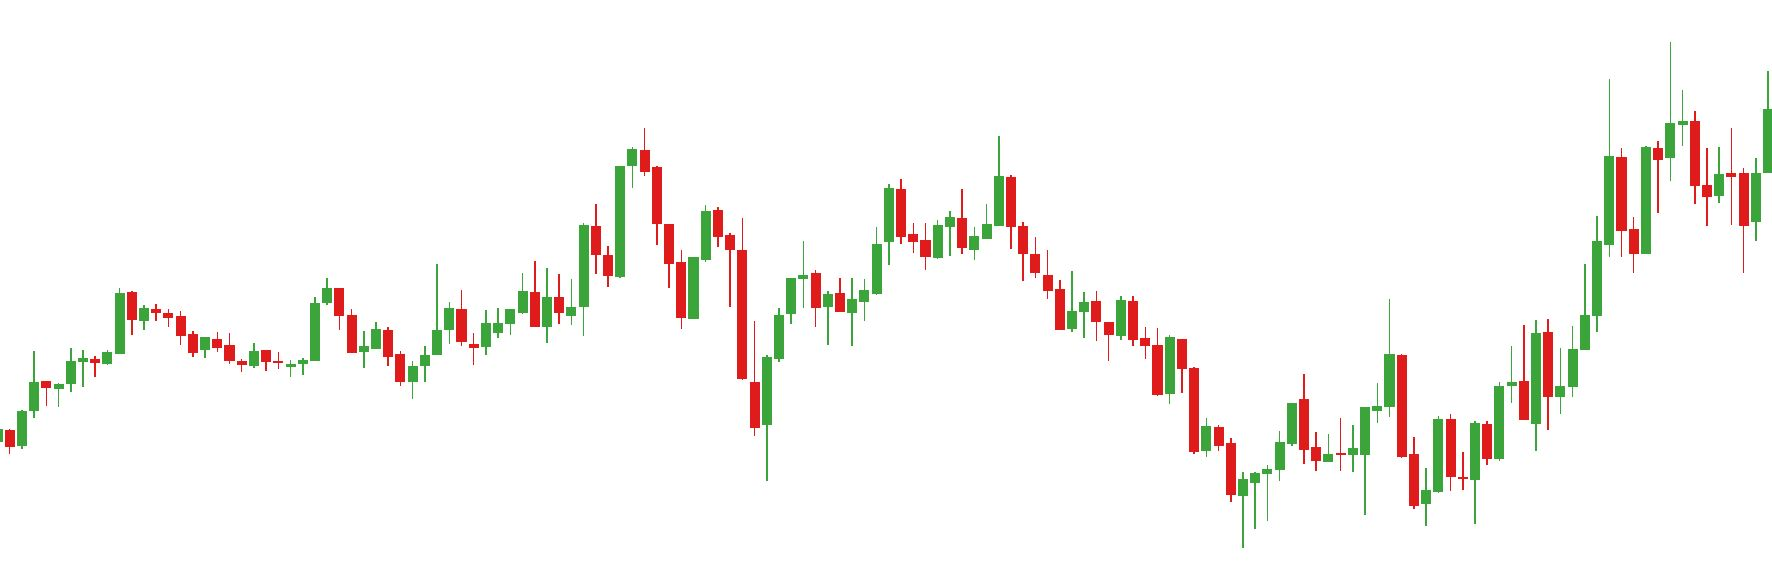buy: (562, 230, 784, 486), (1357, 414, 1433, 539)
sell: (880, 132, 1019, 254)
